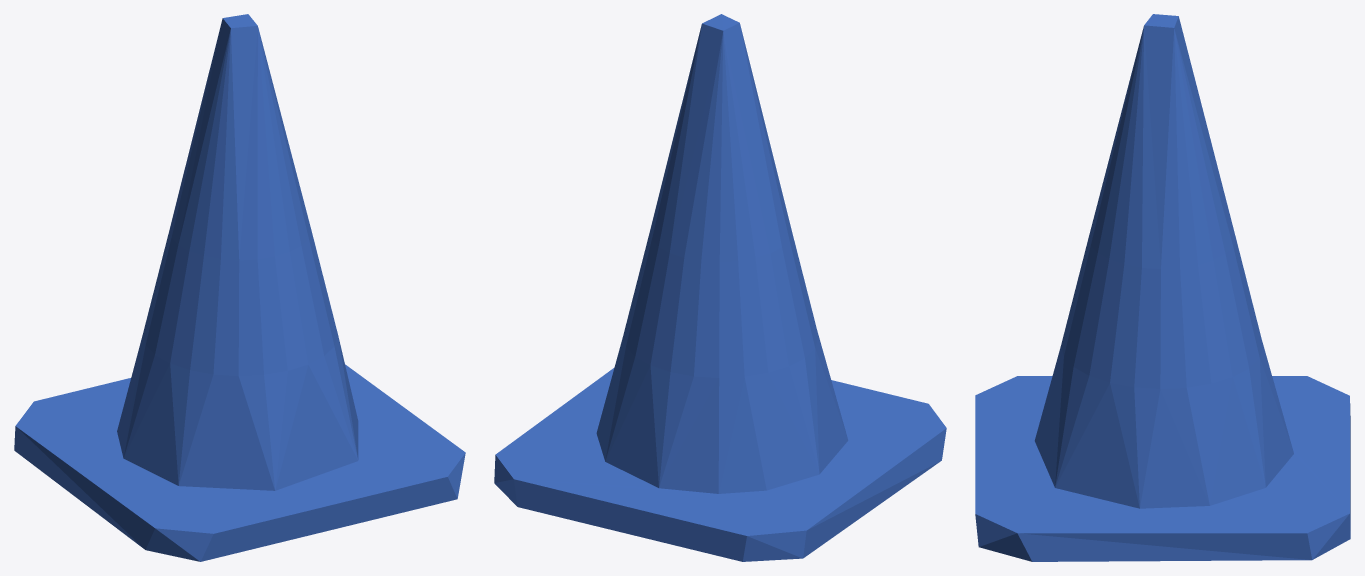
File: cone_blue.dae
The picture shows the model from 3 angles, left to right: view 1: azimuth 30°, elevation 25°; view 2: azimuth 150°, elevation 25°; view 3: azimuth 270°, elevation 25°; orthographic projection. The views are drawn at different scales.
Visible parts, largest first — view 1: node; view 2: node; view 3: node.
Part boxes in pixels (<box>): node: <box>14,14,465,561</box>; node: <box>494,14,946,561</box>; node: <box>975,14,1350,561</box>.
Size of the model in its own units: 0.2254 by 0.224 by 0.3034.
